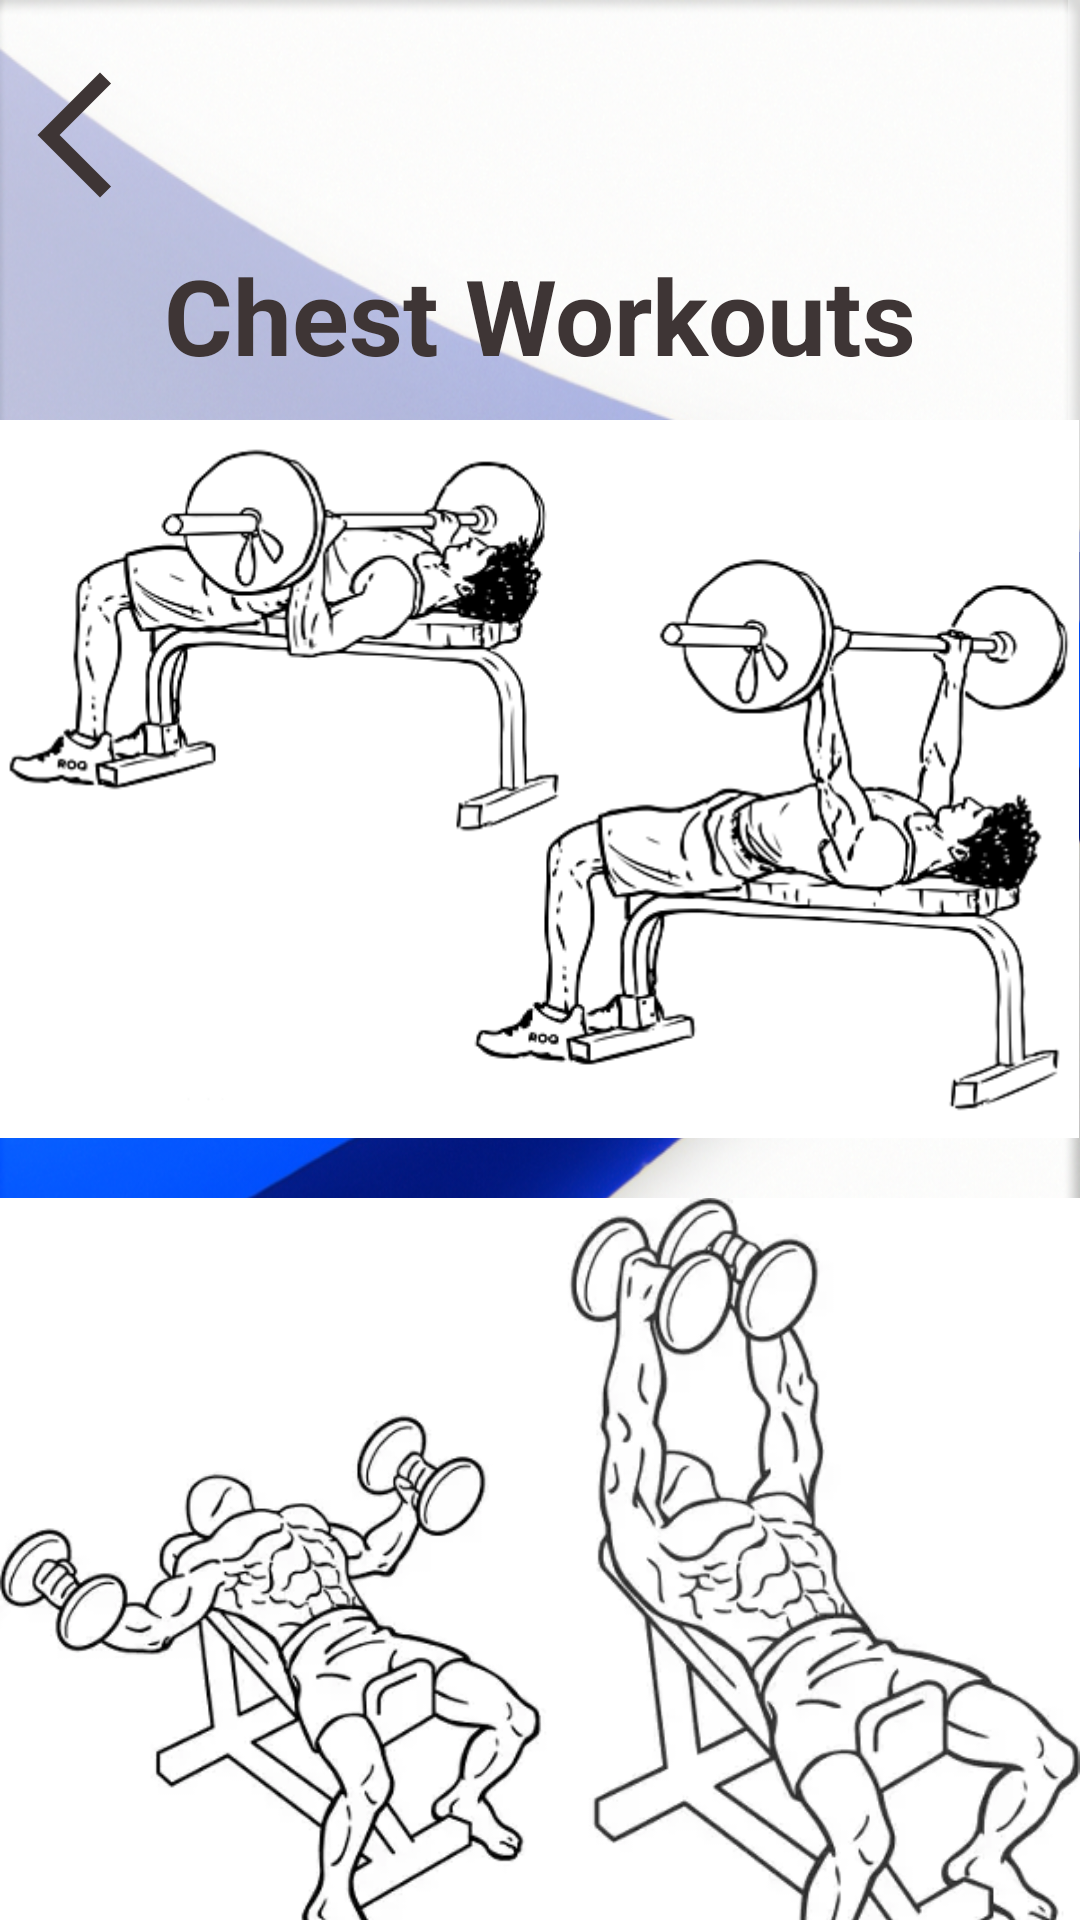

Named icons in this screenshot (1080px x 1920px) and their centers, (x,y):
arrow back: (75,135)
